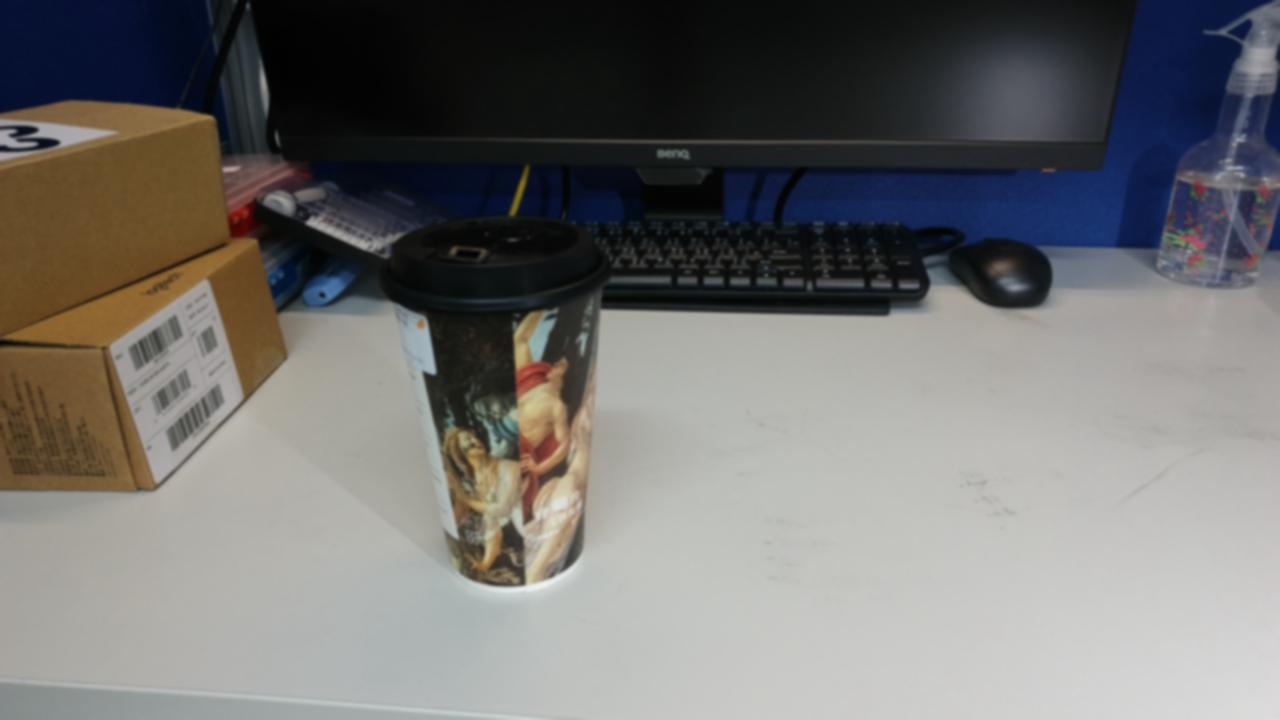blade: (895, 552, 954, 616)
grasp: (857, 475, 1003, 587)
